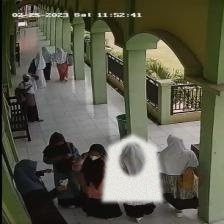Mukena: (102, 133, 162, 202)
